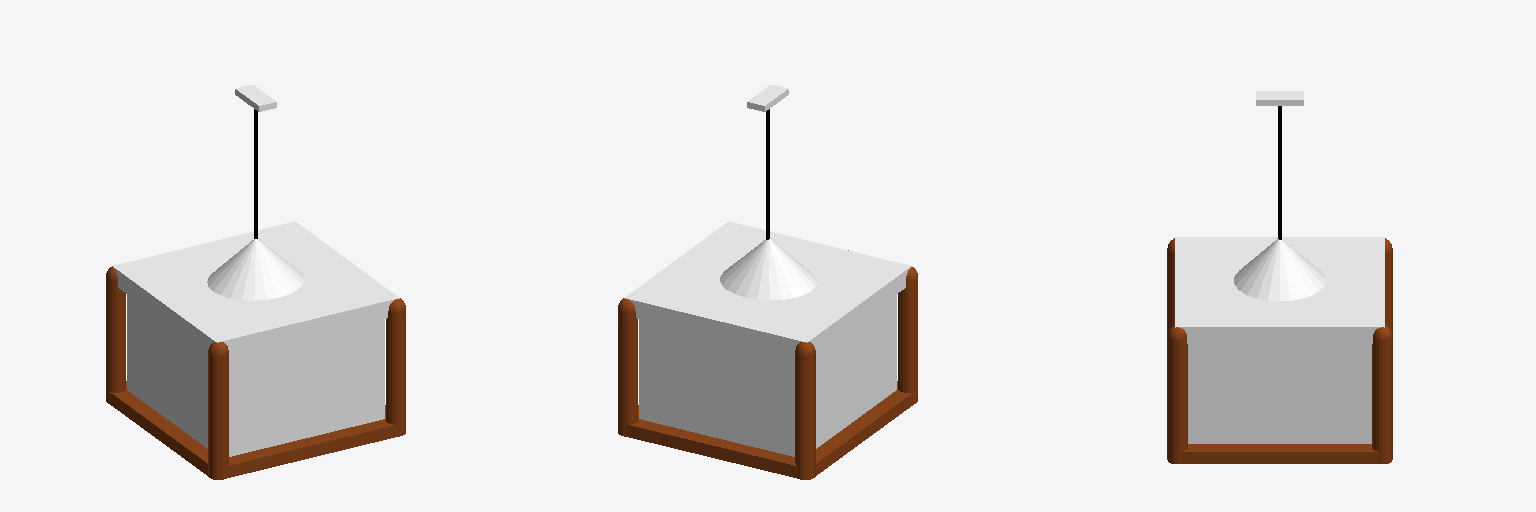
The model's file is droplight.obj.
3 views of the same model, side by side, from view 1: azimuth 30°, elevation 25°; view 2: azimuth 150°, elevation 25°; view 3: azimuth 270°, elevation 25° (orthographic).
Parts seen in each view (by area): view 1: tinker; view 2: tinker; view 3: tinker.
Part boxes in pixels (bbox=[...]): tinker: bbox=[106, 84, 405, 479]; tinker: bbox=[618, 84, 917, 479]; tinker: bbox=[1167, 91, 1392, 463].
Size of the model in its own units: 33 by 52 by 33.